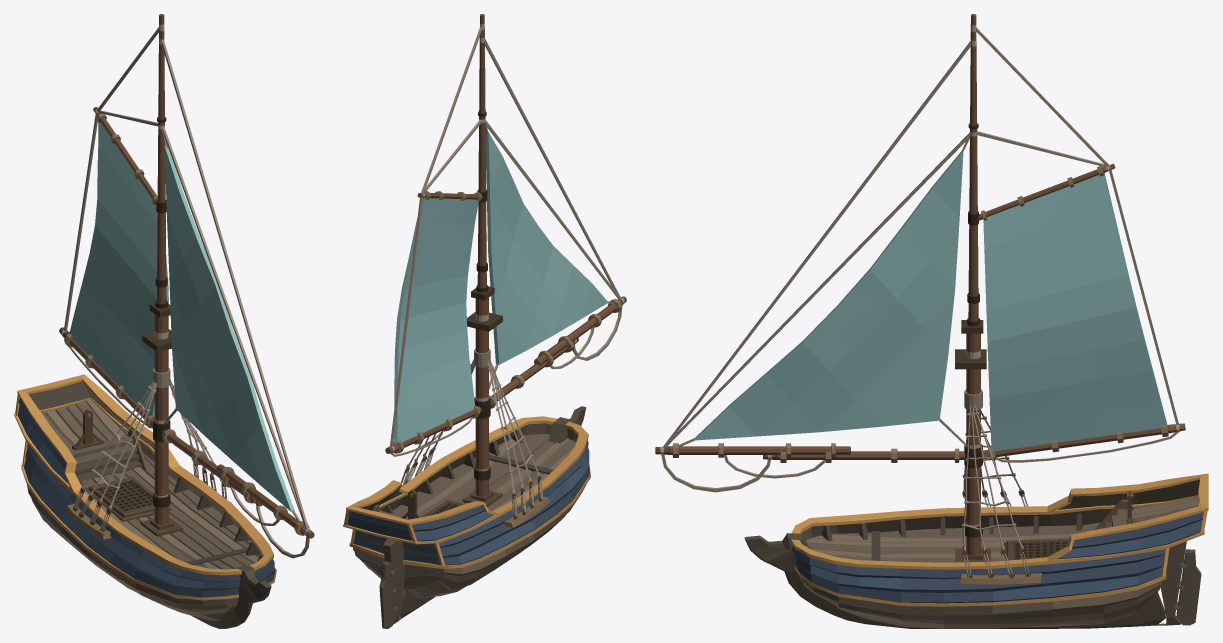
Rendered from SHIP_SMALL.fbx.
3 renders of one model, left to right at view 1: azimuth 30°, elevation 25°; view 2: azimuth 150°, elevation 25°; view 3: azimuth 270°, elevation 25°, orthographic. The views are drawn at different scales.
Parts seen in each view (by area): view 1: Ship_SMALL, Sails; view 2: Ship_SMALL, Sails; view 3: Ship_SMALL, Sails.
Part boxes in pixels (x1=…): Ship_SMALL: x1=14, y1=14, x2=314, y2=628; Sails: x1=69, y1=122, x2=294, y2=511; Ship_SMALL: x1=343, y1=14, x2=626, y2=628; Sails: x1=393, y1=132, x2=608, y2=444; Ship_SMALL: x1=655, y1=14, x2=1208, y2=628; Sails: x1=694, y1=150, x2=1167, y2=451.
Size of the model in its own units: 5.07 by 20.84 by 17.04.
